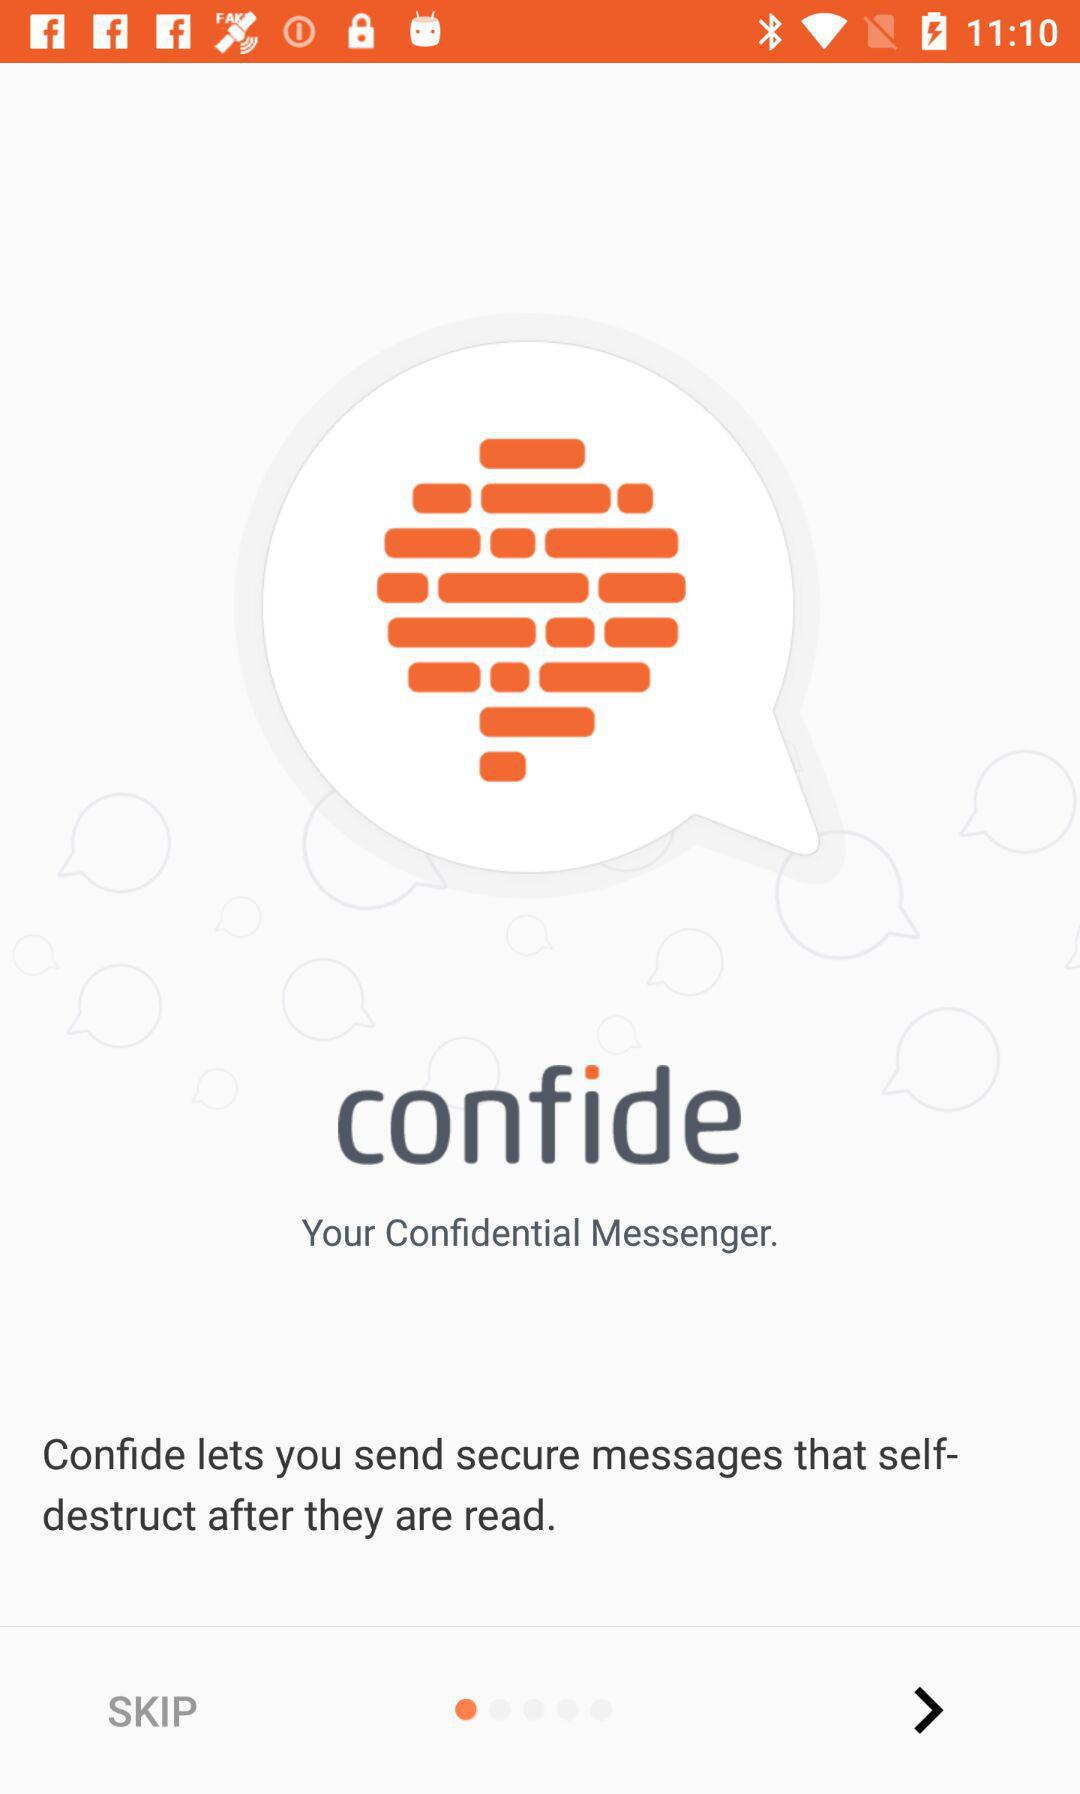Icon: (913, 1686, 945, 1735)
Image: (231, 310, 844, 891), (334, 1062, 742, 1166)
PageIndicator: (455, 1697, 616, 1724)
Text: (44, 1436, 960, 1542), (300, 1214, 781, 1256), (109, 1694, 199, 1727)
UpperTaskBar: (1, 1, 1080, 64)
